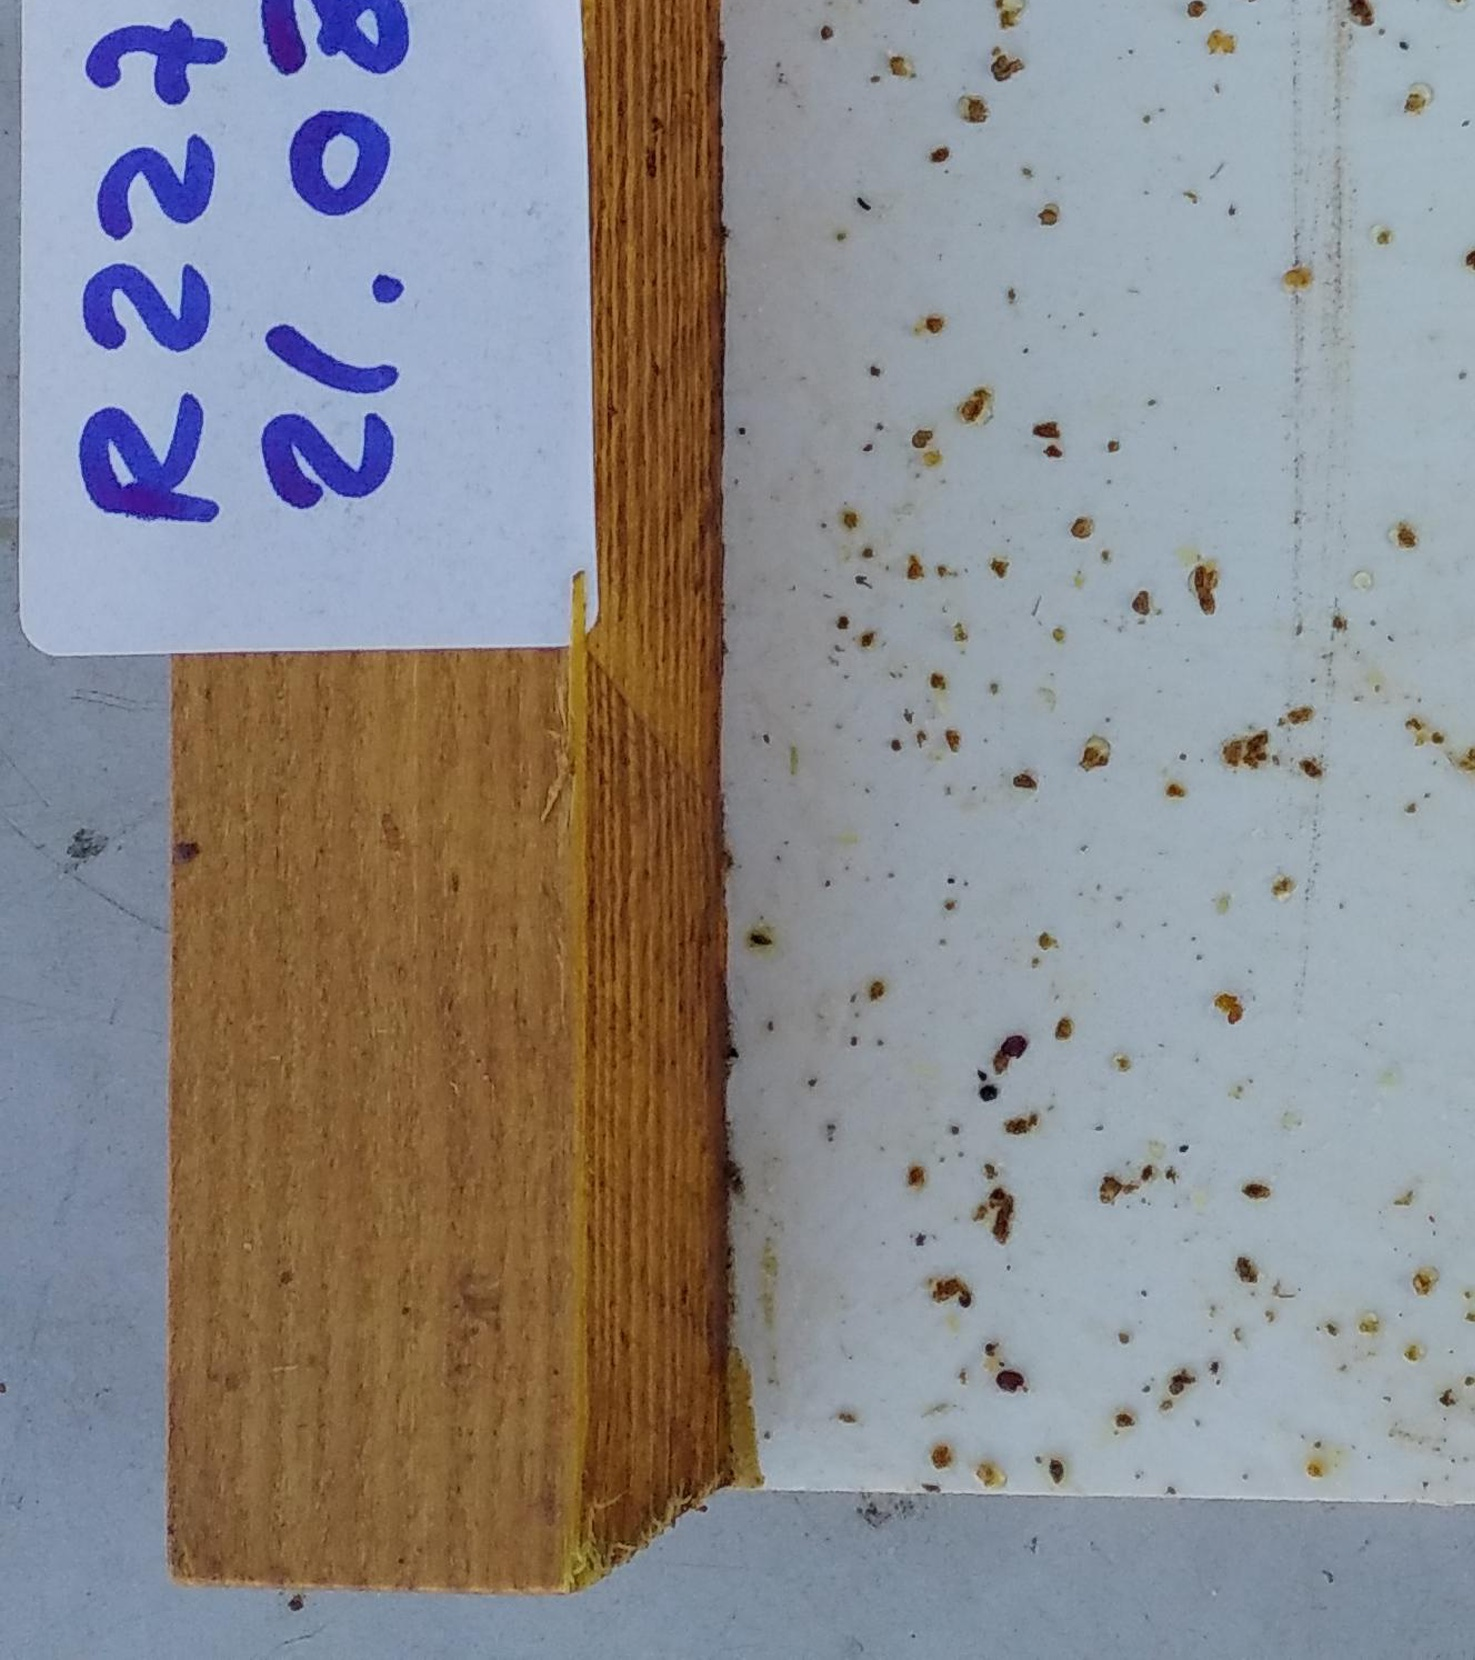Varroa: (991, 1360, 1032, 1401), (992, 1026, 1034, 1066)
